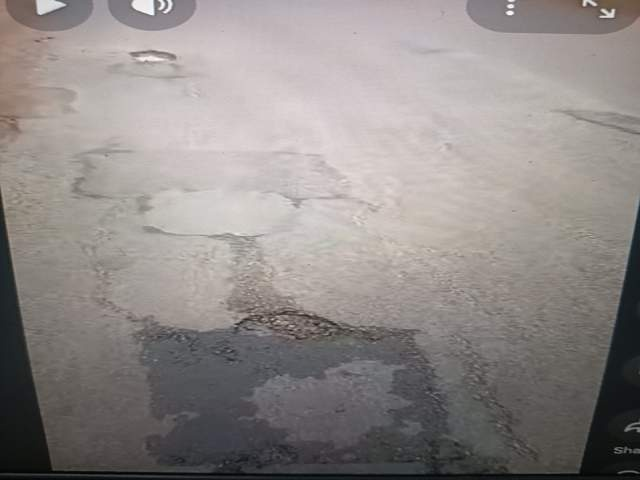pothole: (110, 403, 327, 480)
